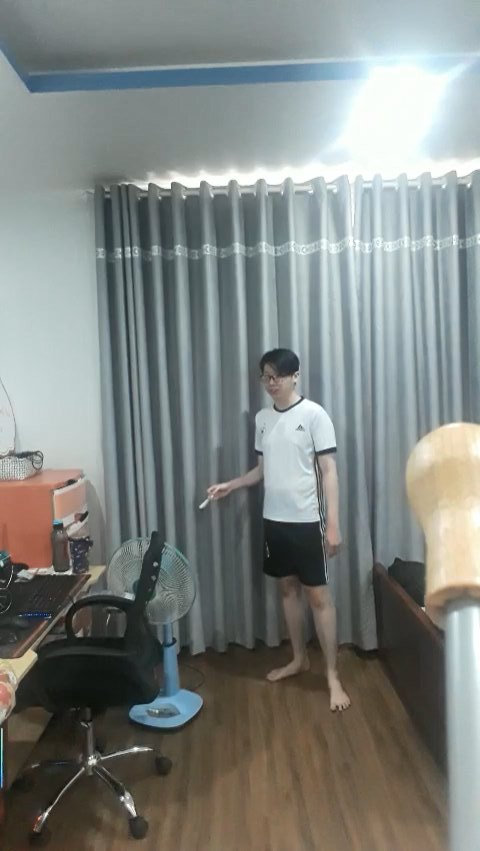cigarette: (200, 496, 211, 510)
person: (229, 344, 372, 723)
